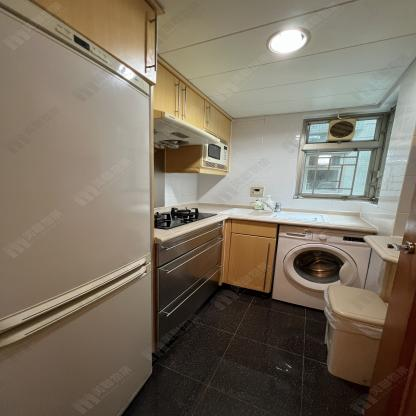Cupboard: (155, 222, 280, 347)
Exhaust Fan: (326, 119, 356, 141)
Exhaust Hood: (155, 108, 226, 148), (153, 109, 221, 149)
Faucet: (274, 201, 281, 212)
Fridge: (0, 1, 153, 414)
Microwave: (200, 128, 229, 171), (201, 137, 230, 170)
Sink: (216, 207, 330, 224)
Stove: (153, 203, 222, 232), (153, 208, 218, 228)
Washing Machine: (271, 224, 375, 310)
